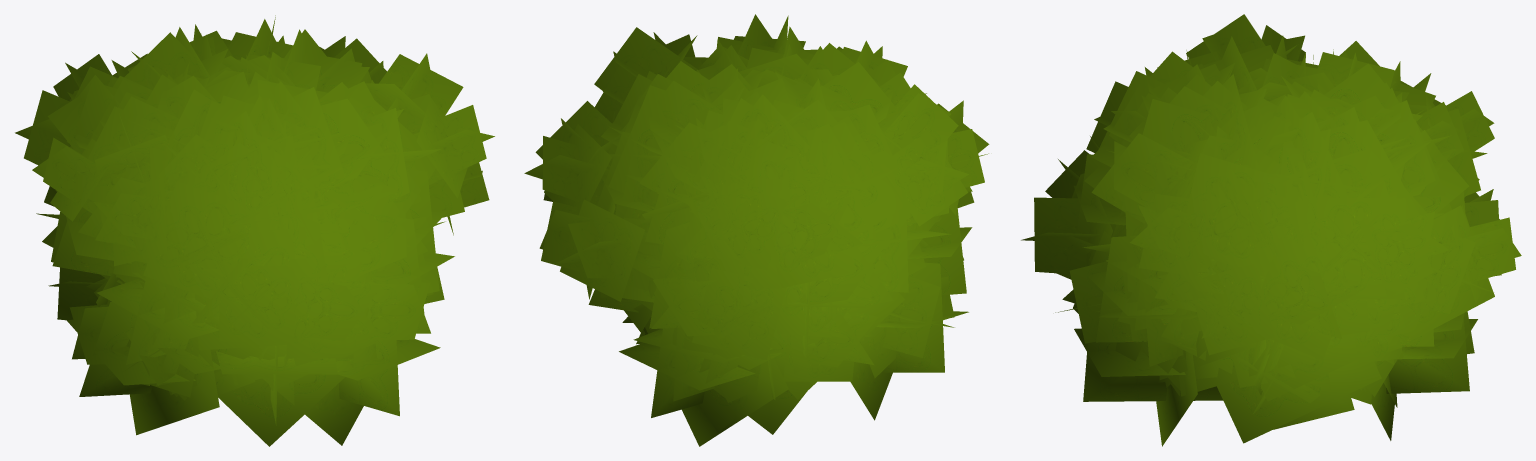
Rendered from jardin_arbusto.obj.
3 renders of one model, left to right at view 1: azimuth 30°, elevation 25°; view 2: azimuth 150°, elevation 25°; view 3: azimuth 270°, elevation 25°, orthographic. The views are drawn at different scales.
Visible parts, largest first — view 1: jardin_arbusto; view 2: jardin_arbusto; view 3: jardin_arbusto.
Part boxes in pixels (bbox=[...]): jardin_arbusto: bbox=[15, 15, 494, 446]; jardin_arbusto: bbox=[524, 14, 989, 446]; jardin_arbusto: bbox=[1021, 14, 1521, 446].
Size of the model in its own units: 1.91 by 1.58 by 1.97.
